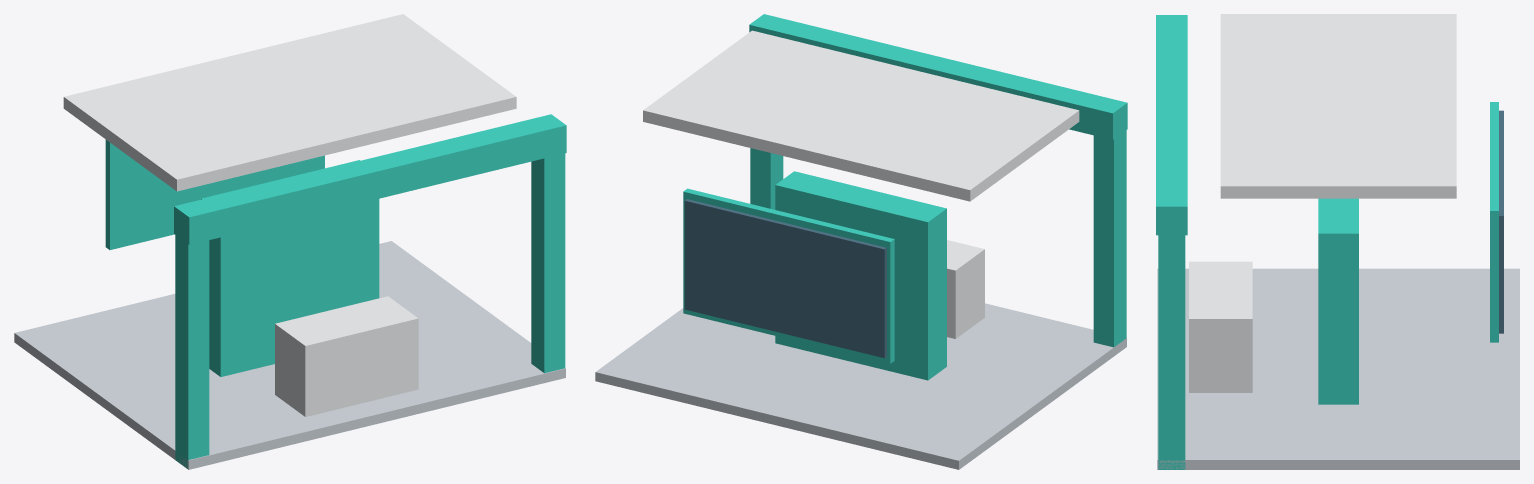
3 renders of one model, left to right at view 1: azimuth 30°, elevation 25°; view 2: azimuth 150°, elevation 25°; view 3: azimuth 270°, elevation 25°, orthographic. The views are drawn at different scales.
Parts seen in each view (by area): view 1: Exhibition Booth Concept; view 2: Exhibition Booth Concept; view 3: Exhibition Booth Concept.
Boxes of the visible parts, <box> form: Exhibition Booth Concept: <box>14,14,566,469</box>; Exhibition Booth Concept: <box>595,14,1127,469</box>; Exhibition Booth Concept: <box>1156,14,1519,469</box>.
Bounding box in the file's own units: 5 × 3.34 × 4.02.
